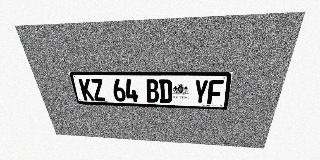4: (124, 79, 138, 102)
6: (111, 79, 126, 102)
B: (145, 79, 159, 103)
D: (159, 79, 172, 103)
F: (207, 80, 224, 105)
K: (78, 79, 95, 101)
Y: (193, 80, 209, 104)
Z: (90, 79, 106, 101)
